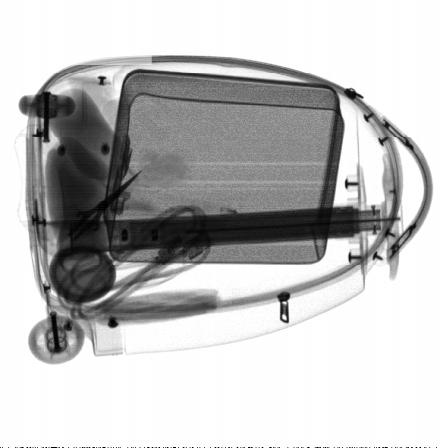Scissors: (51, 168, 143, 263)
